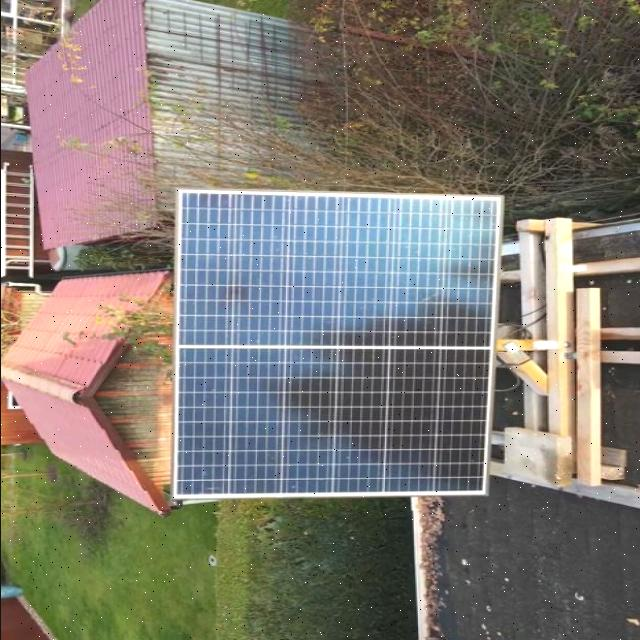Normal Solar Panel: (172, 193, 500, 498)
